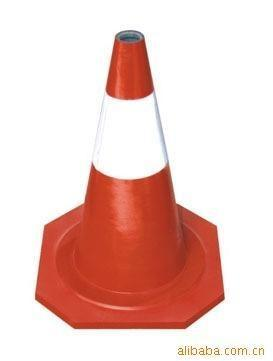cone_barrel: (59, 29, 196, 313)
